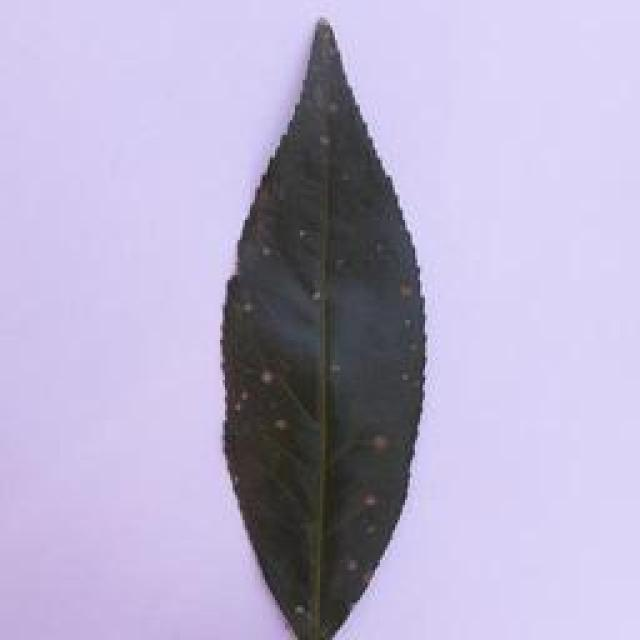Algal Leaf Spot: (197, 7, 440, 640)
